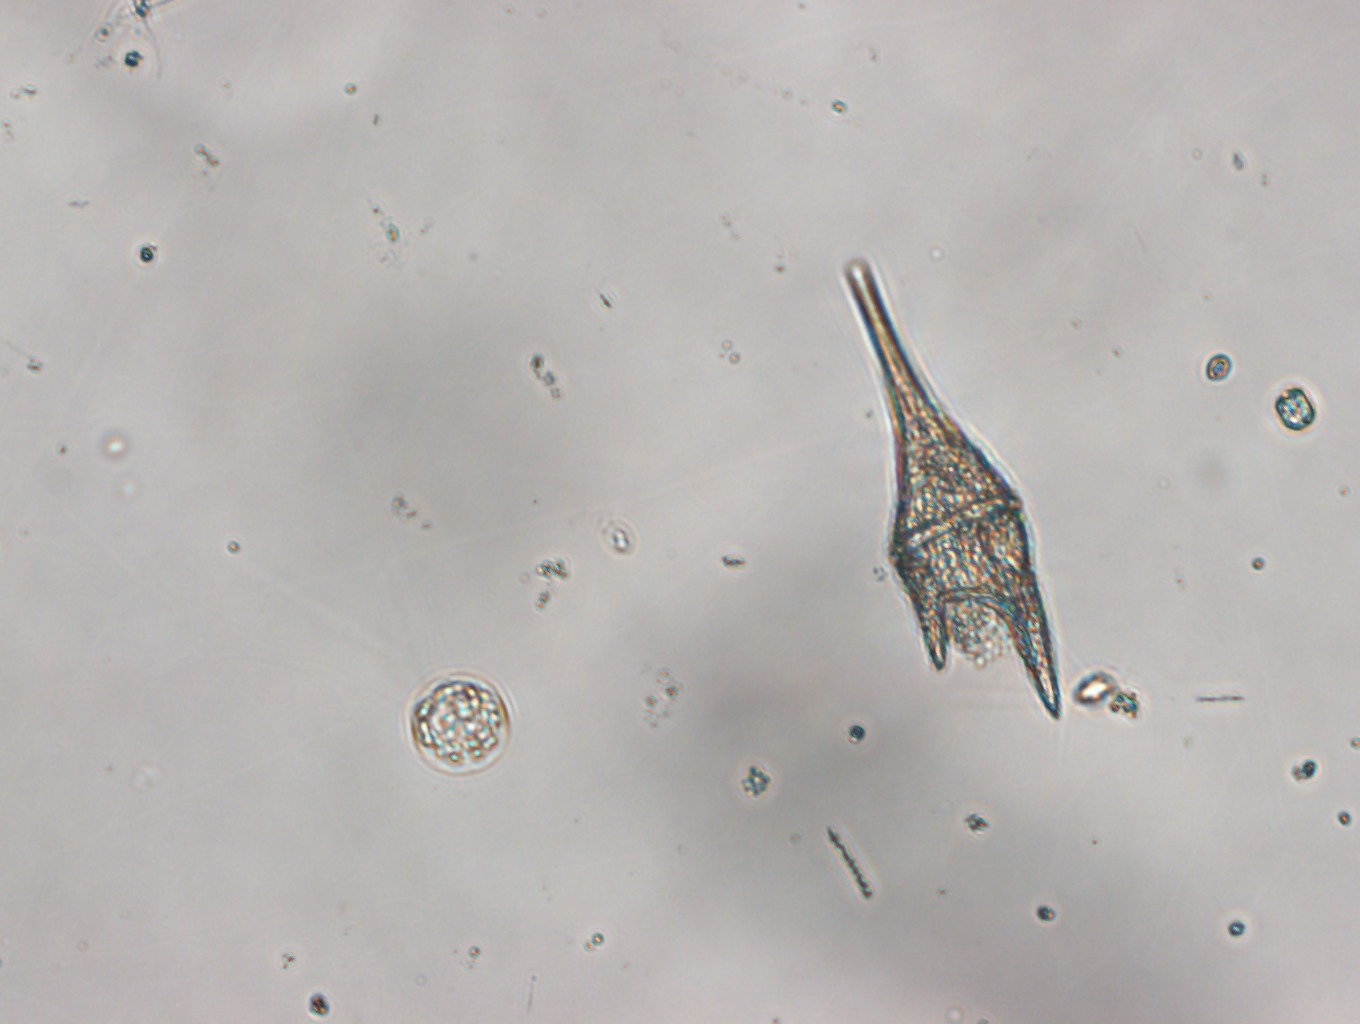ceratium furca: (838, 256, 1064, 724)
